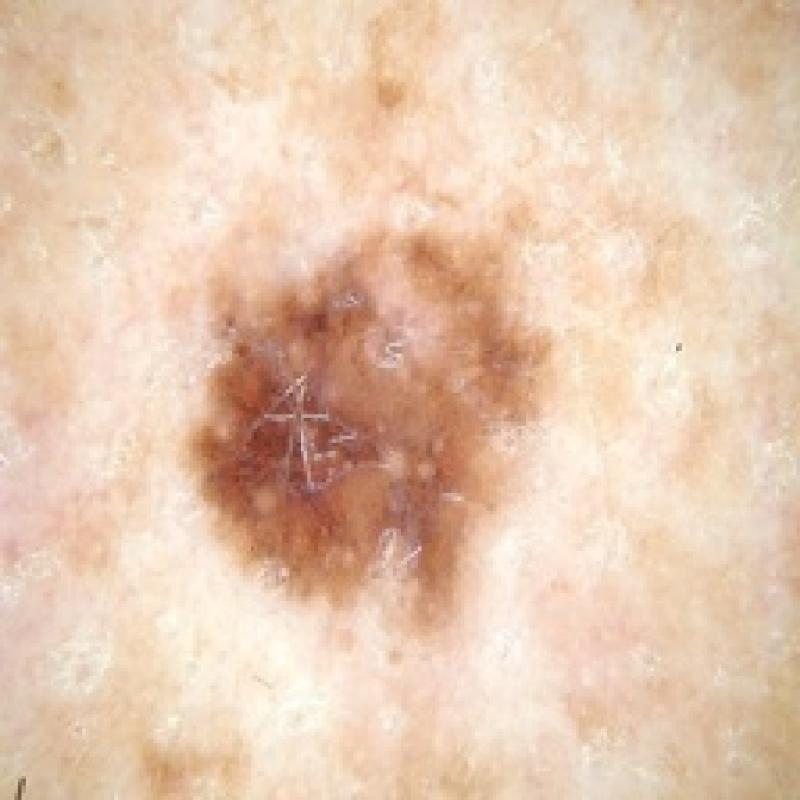malignant: (158, 219, 602, 657)
